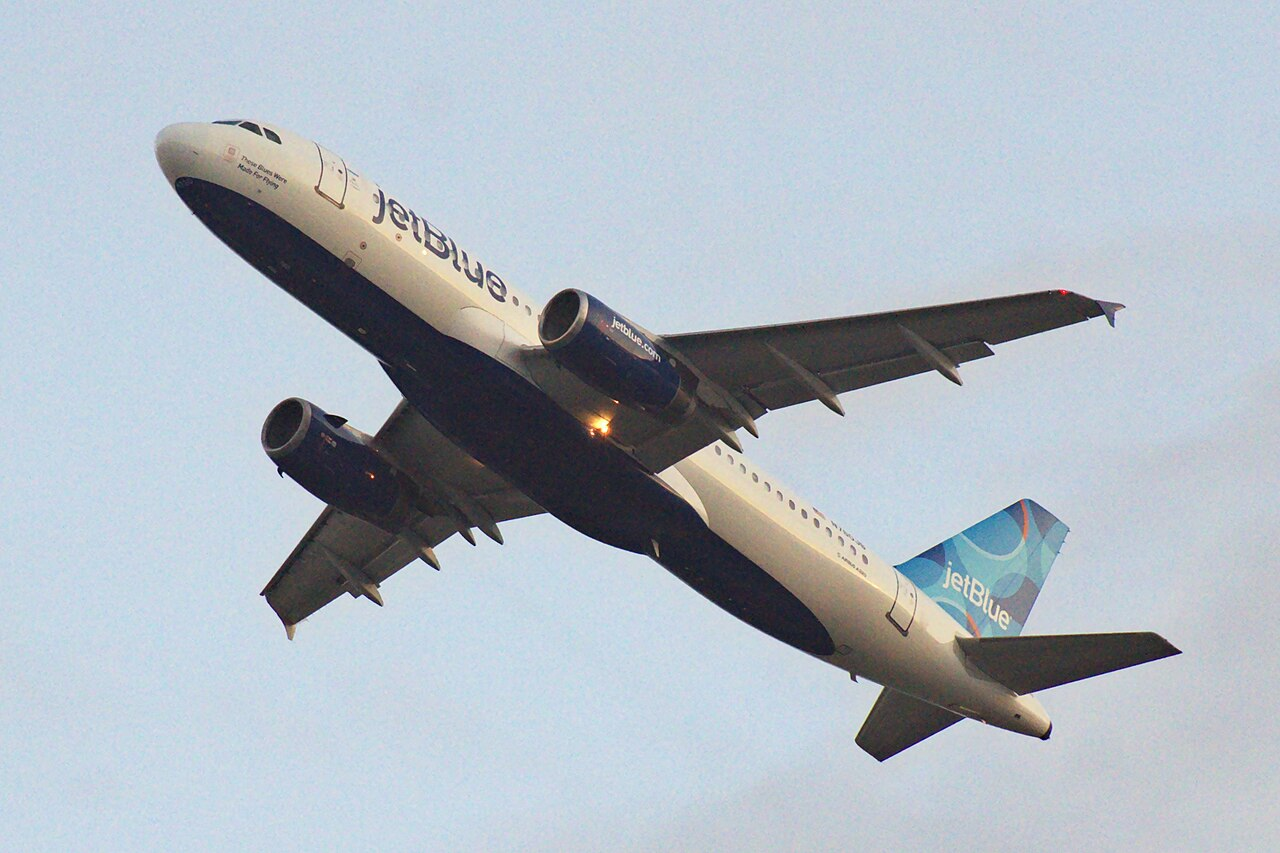aircraft: (152, 117, 1181, 763)
